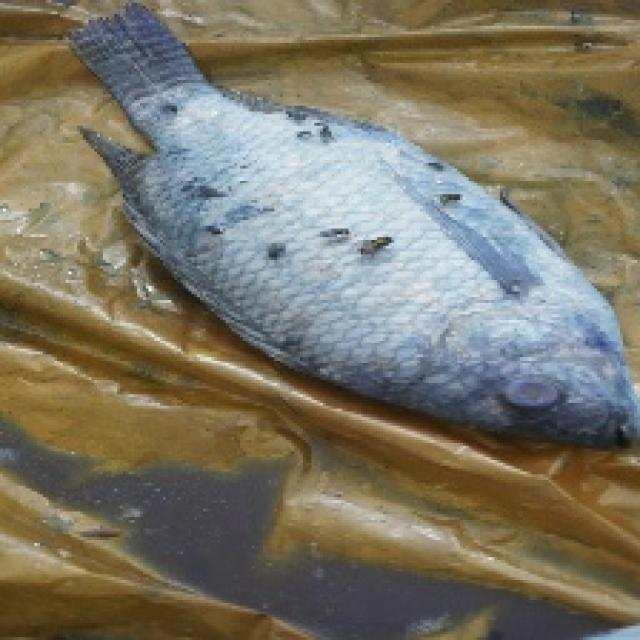Non-Fresh: (139, 90, 622, 445), (503, 372, 568, 421)
